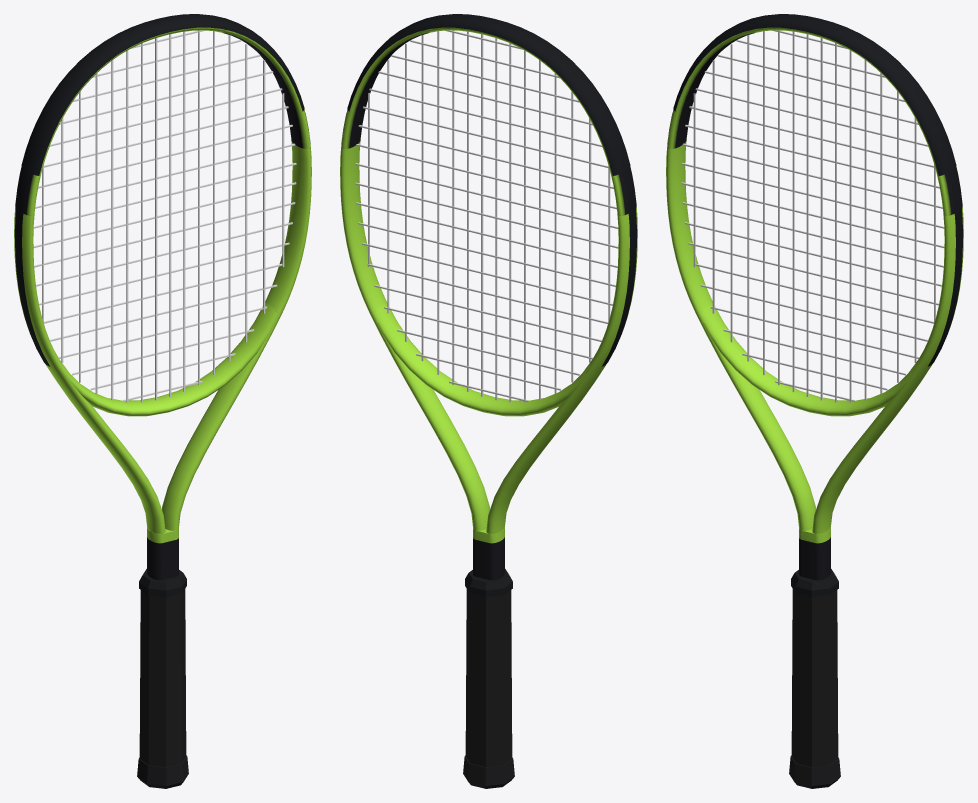
The model's file is head-extreme-team-2026.glb.
The picture shows the model from 3 angles, left to right: view 1: azimuth 30°, elevation 25°; view 2: azimuth 150°, elevation 25°; view 3: azimuth 330°, elevation 25°; orthographic projection.
Visible parts, largest first — view 1: frame, strings_mains, strings_crosses, grip, bumper, grommets, butt_cap, collar; view 2: frame, strings_mains, strings_crosses, grip, bumper, grommets, butt_cap, collar; view 3: frame, strings_mains, strings_crosses, grip, bumper, grommets, butt_cap, collar.
Boxes of the visible parts, x1,y1,x2,y2 form: frame: (14,27,311,580); strings_mains: (42,30,284,402); strings_crosses: (33,30,296,401); grip: (139,589,186,767); bumper: (21,14,304,175); grommets: (15,168,49,366); butt_cap: (137,755,188,788); collar: (139,569,186,597); frame: (340,27,637,580); strings_mains: (368,30,610,402); strings_crosses: (355,30,618,401); grip: (465,589,512,767); bumper: (347,14,630,175); grommets: (602,168,636,366); butt_cap: (463,755,514,788); collar: (465,569,512,597); frame: (666,27,963,580); strings_mains: (693,30,935,402); strings_crosses: (681,30,944,401); grip: (791,589,838,767); bumper: (673,14,956,175); grommets: (928,168,962,366); butt_cap: (789,755,840,788); collar: (791,569,838,597).
Size of the model in its own units: 0.2748 by 0.6861 by 0.0396.
